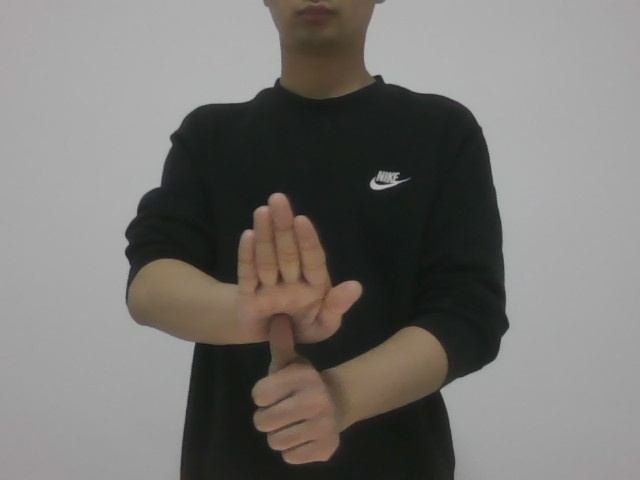love: (234, 195, 372, 469)
